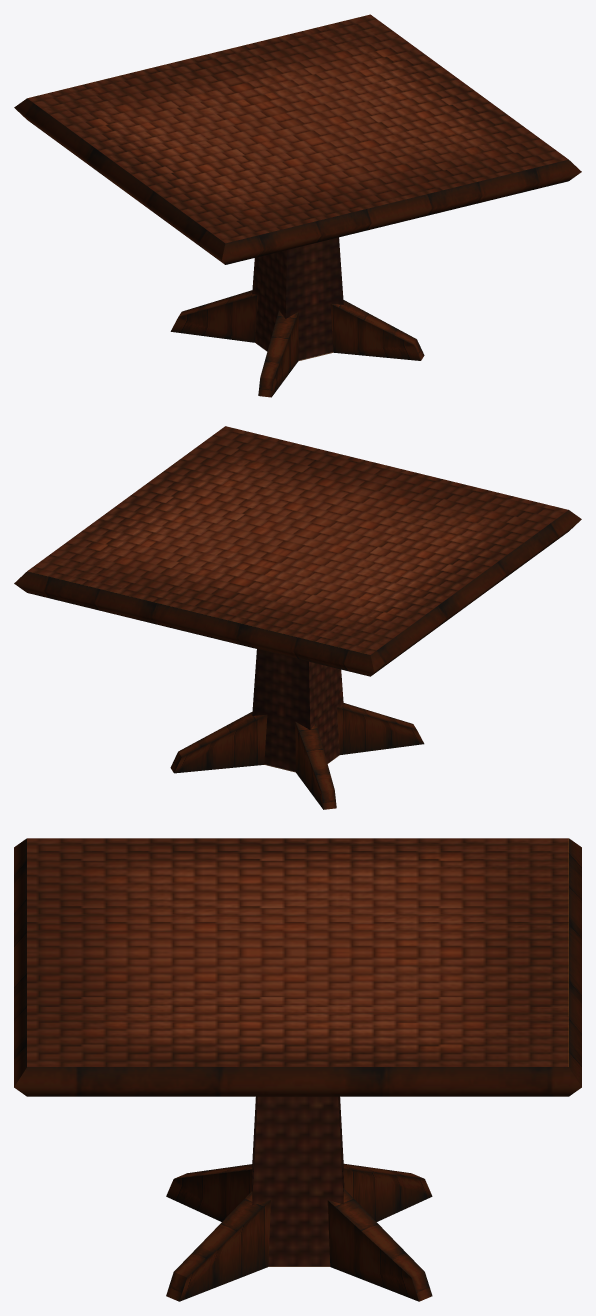
The model's file is ETC0610021.fbx.
The picture shows the model from 3 angles, top to bottom: view 1: azimuth 30°, elevation 25°; view 2: azimuth 150°, elevation 25°; view 3: azimuth 270°, elevation 25°; orthographic projection. The views are drawn at different scales.
Parts seen in each view (by area): view 1: smETC0610021; view 2: smETC0610021; view 3: smETC0610021.
Part boxes in pixels (x1,y1,x2,y2): smETC0610021: (14,14,581,397); smETC0610021: (14,426,581,809); smETC0610021: (14,838,581,1301).
Bounding box in the file's own units: 154 × 87.8 × 154.
Materials: 1 (1 with a texture image).
